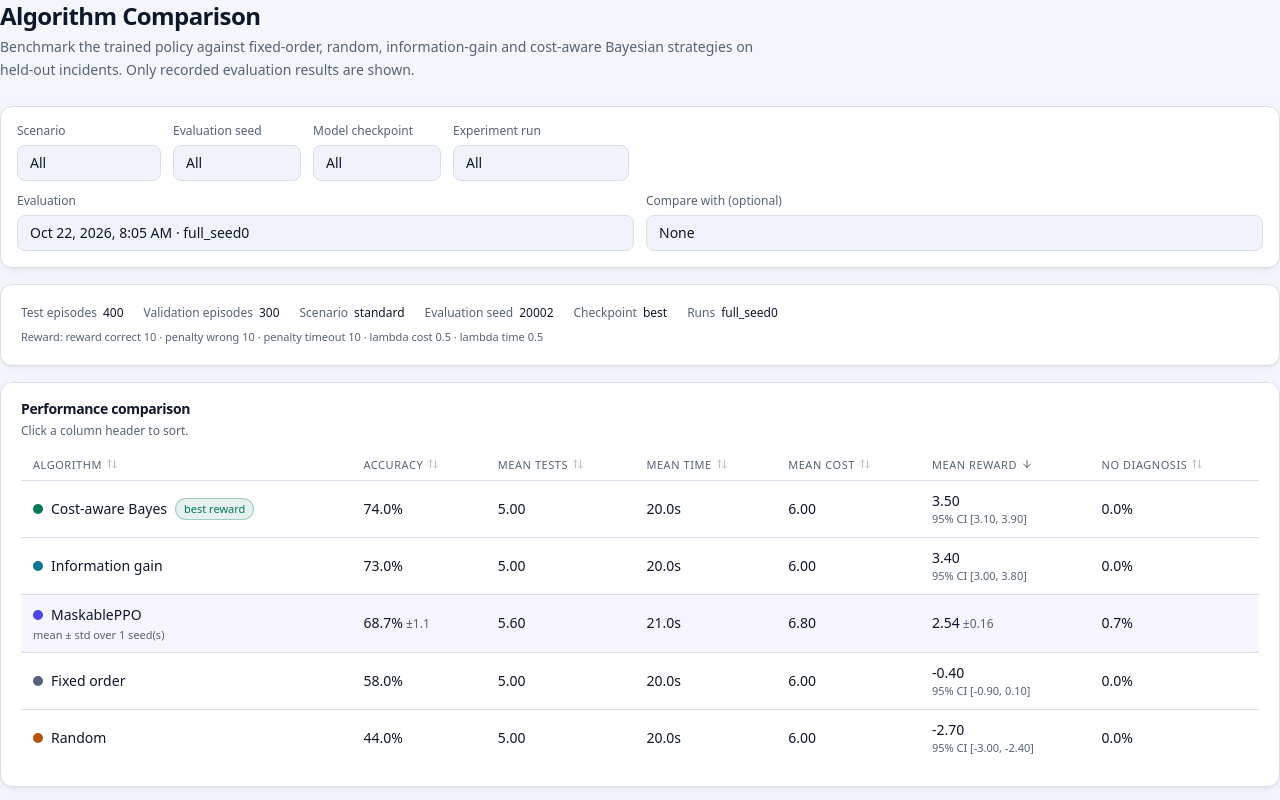
it: Comparison › confirms equivalence when the setups match
The width and height of the screenshot is (1280, 800).
Check: the table named "Performance comparison" is shown, box [21,448,1259,766]
Select "Oct 22, 2026, 8:05 AM · full_seed0" in the dropdown labelled "Compare with": (954, 232) [646,214,1263,250]
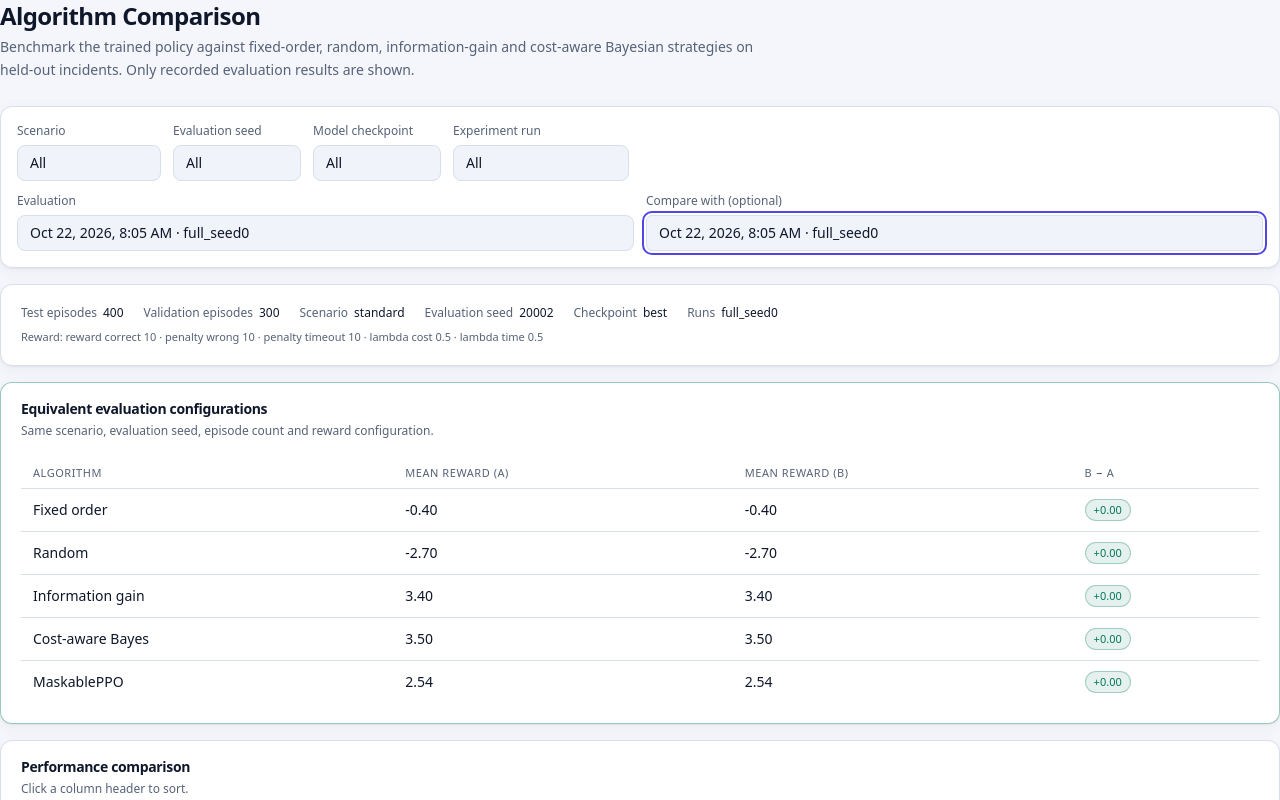
Check: the heading "Equivalent evaluation configurations" is shown, box [21,399,267,418]
